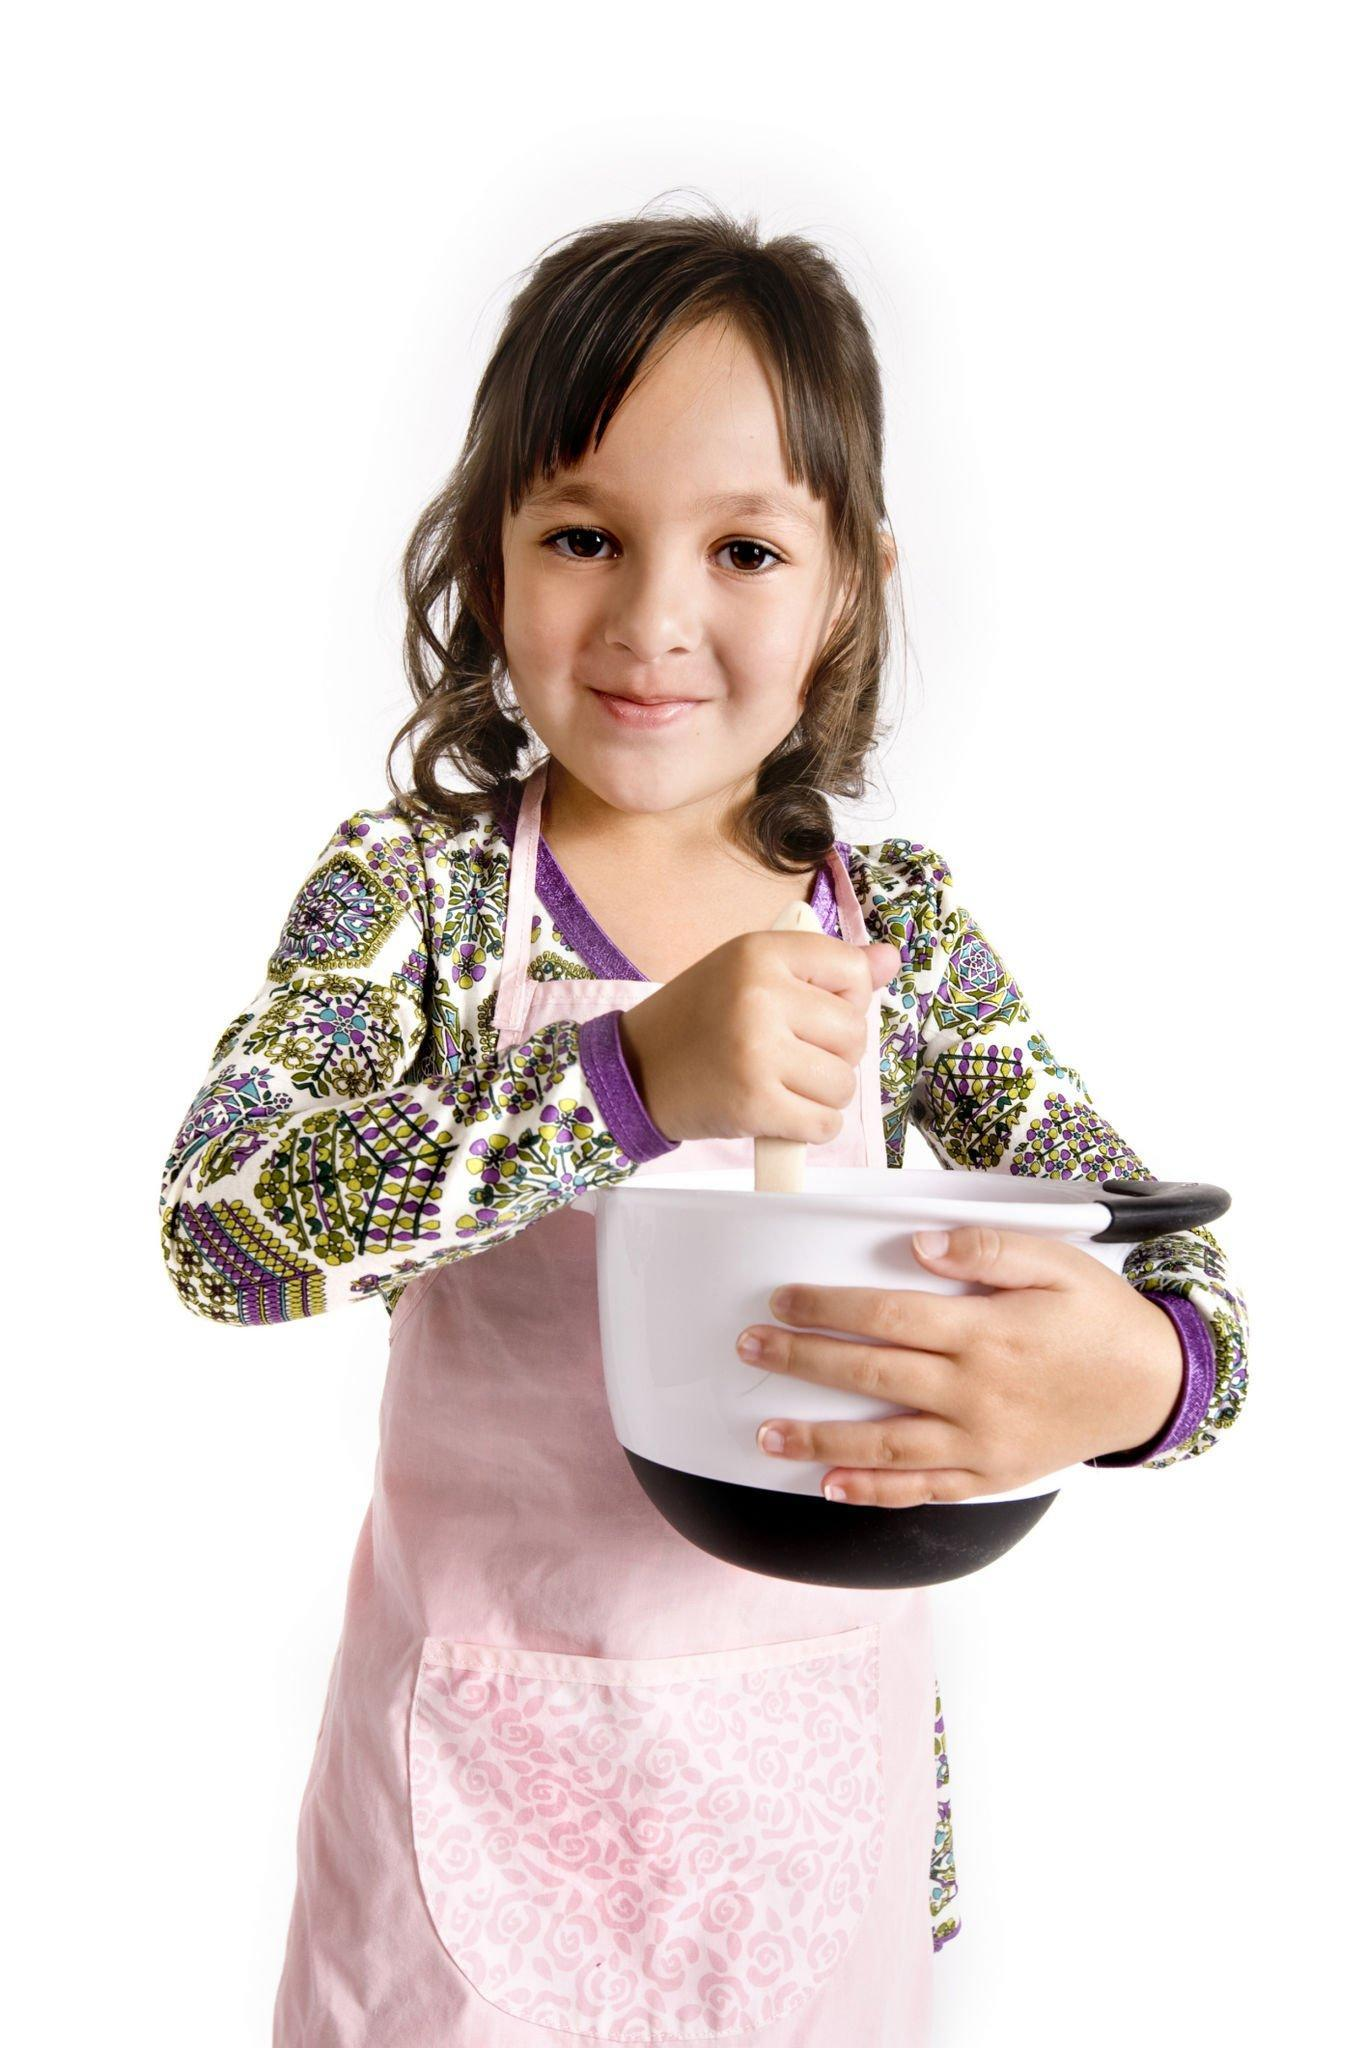Healthy: (401, 221, 912, 856)
